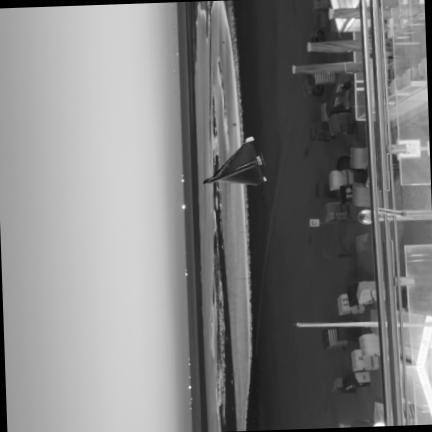Shahed: (204, 136, 266, 184)
